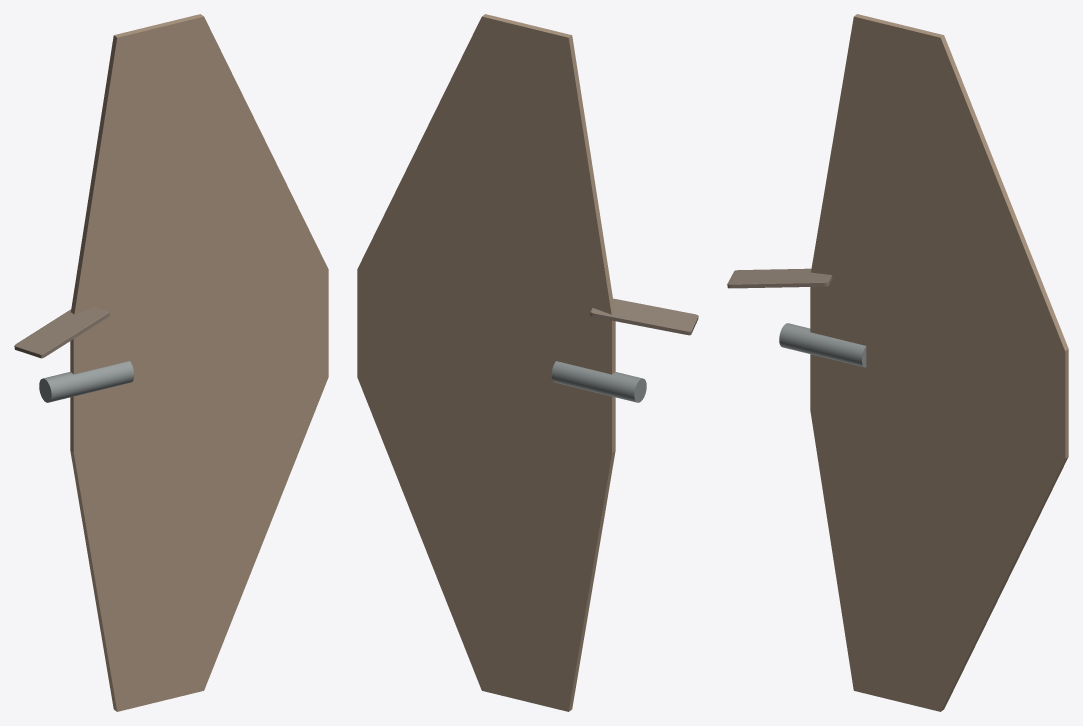
The model's file is d-u22-dominion-recon-drone-lod2.glb.
3 renders of one model, left to right at view 1: azimuth 30°, elevation 25°; view 2: azimuth 150°, elevation 25°; view 3: azimuth 330°, elevation 25°, orthographic.
Visible parts, largest first — view 1: recon_drone_wing, recon_engine_0, recon_drone_vtail_1; view 2: recon_drone_wing, recon_engine_0, recon_drone_vtail_1; view 3: recon_drone_wing, recon_engine_0, recon_drone_vtail_1.
Part boxes in pixels (x1,y1,x2,y2): recon_drone_wing: (70,14,328,711); recon_engine_0: (39,361,134,402); recon_drone_vtail_1: (14,307,109,358); recon_drone_wing: (357,14,615,711); recon_engine_0: (551,361,646,402); recon_drone_vtail_1: (590,298,698,335); recon_drone_wing: (810,14,1068,711); recon_engine_0: (779,323,866,367); recon_drone_vtail_1: (727,268,832,288).
Size of what is drawn, in the model's own units: 5.97 by 11.92 by 1.08.
